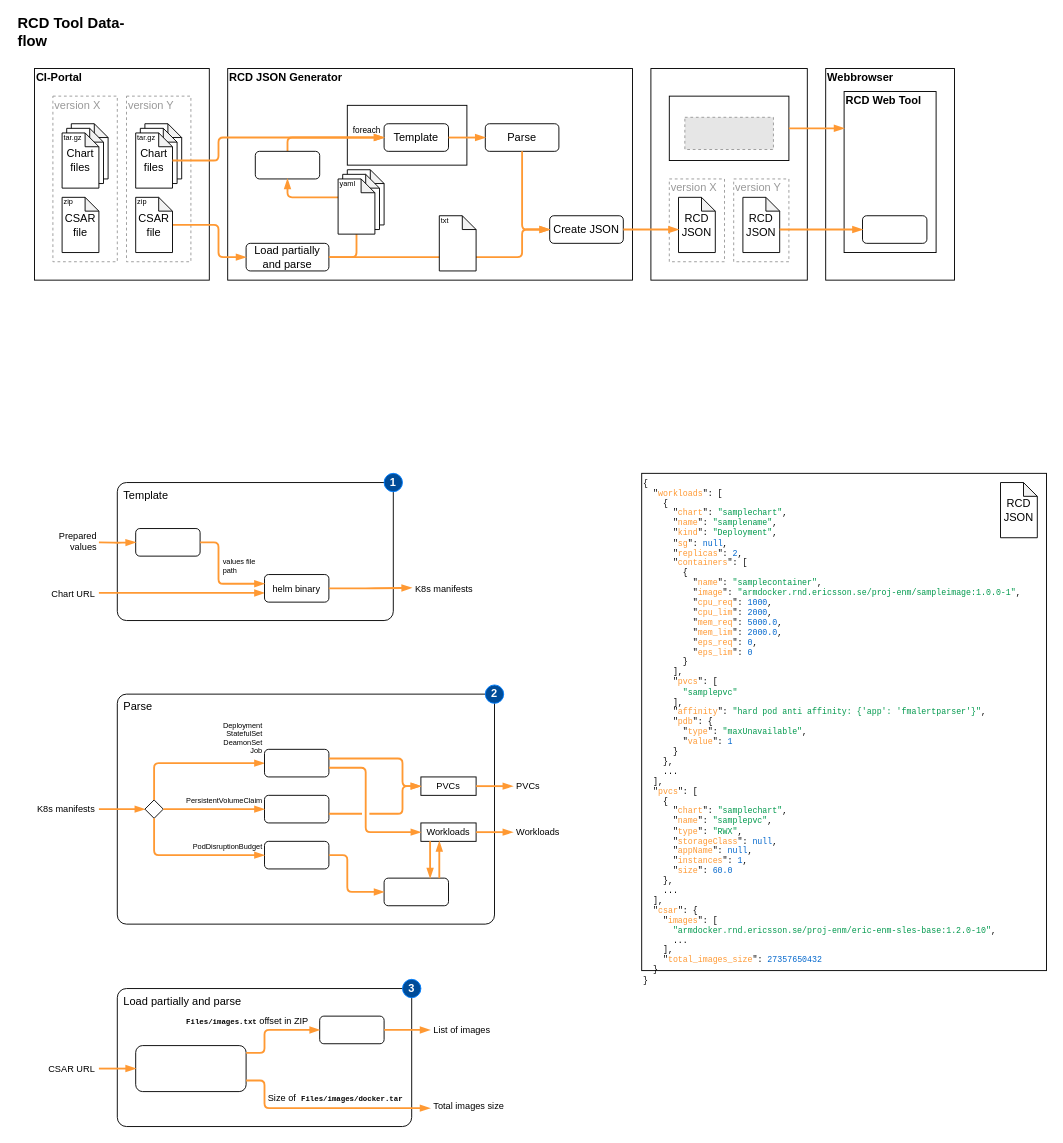
This 1063x1143 diagram has some shape labels left out. Grey dashed boxes stand in for pictures. Each missing label, with the box of its shape:
Append by Labels: (383, 877, 448, 906)
Front-end files: (668, 95, 789, 161)
Helm: (346, 104, 467, 165)
Image list: (438, 215, 476, 271)
Load: (862, 215, 927, 243)
Loading and extracting file: (319, 1015, 384, 1044)
Loading ZIP Central Directory from the end of the file: (135, 1045, 246, 1092)
Parse PDB: (264, 840, 329, 869)
Parse PVC: (264, 794, 329, 823)
Parse Workload: (264, 748, 329, 777)
Prepare: (254, 150, 320, 179)
Values files: (337, 178, 375, 234)
WebServer: (650, 68, 807, 280)
Write tmp file: (135, 528, 200, 556)
